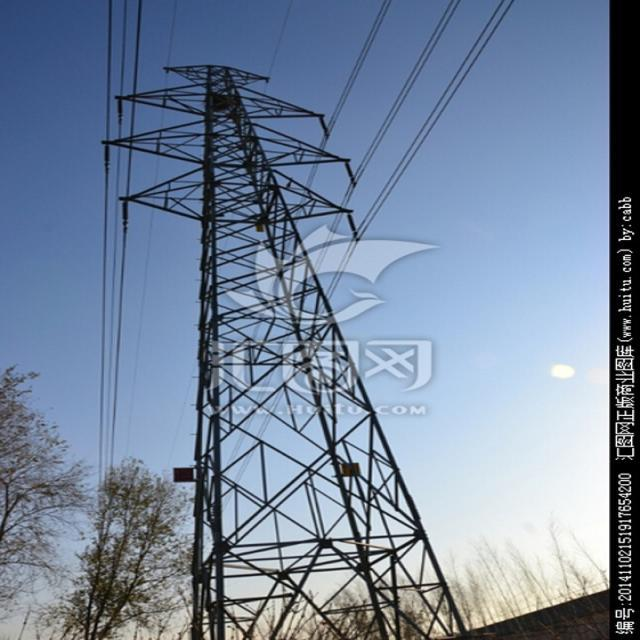non-critical vegetation: (94, 54, 460, 588)
